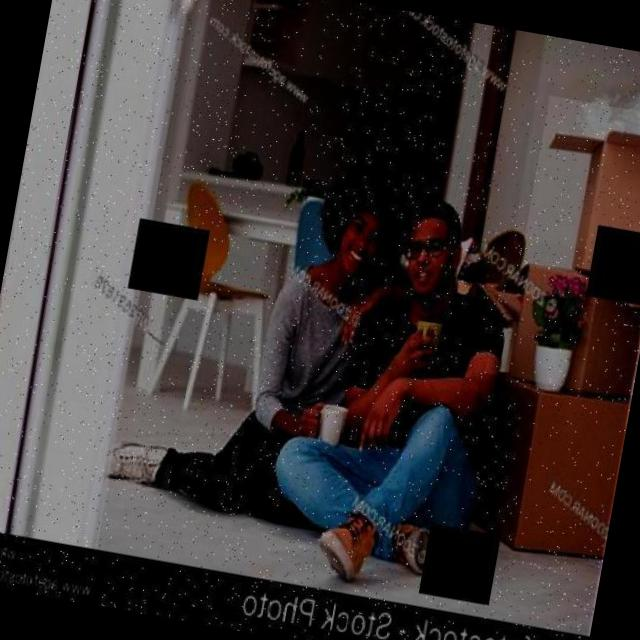box: (448, 372, 631, 576), (483, 235, 640, 407), (519, 95, 640, 290)
